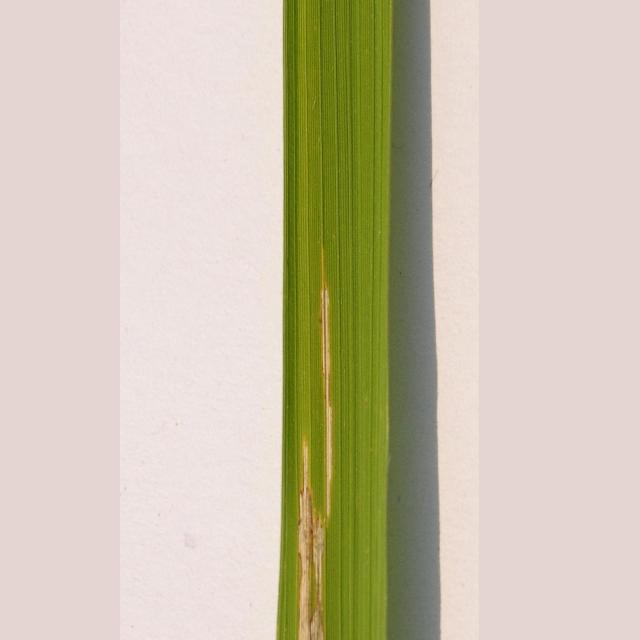Bacterial leaf blight: (294, 429, 320, 640), (321, 234, 338, 530)
